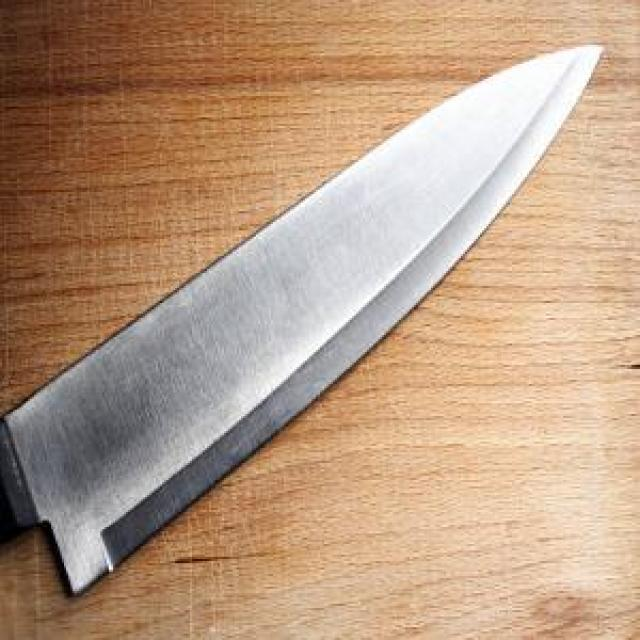knife: (0, 21, 630, 608)
